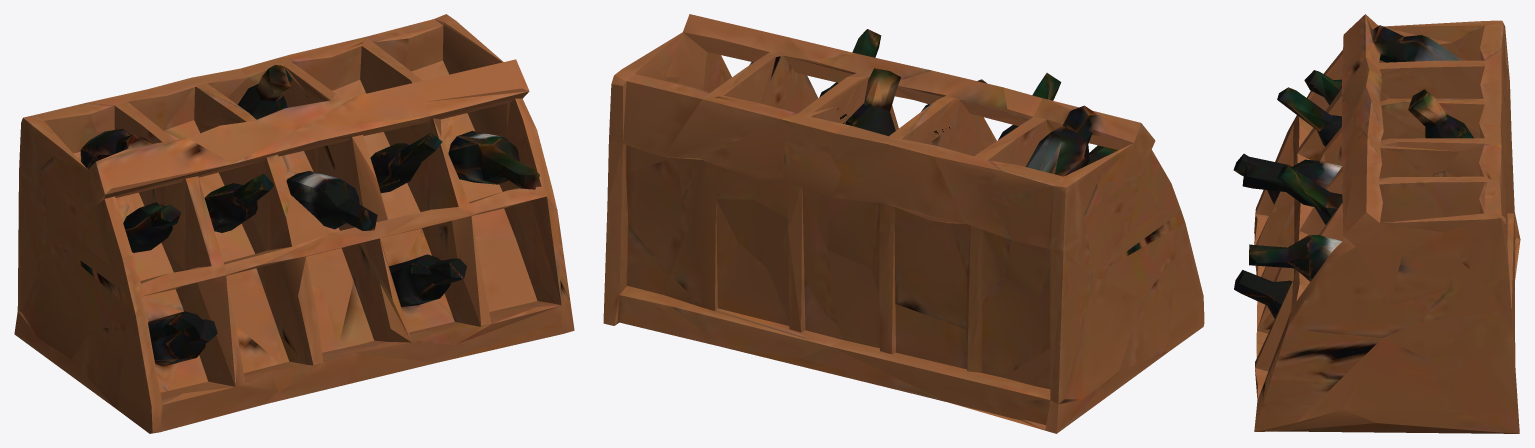
Rendered from wine-rack.low.glb.
3 renders of one model, left to right at view 1: azimuth 30°, elevation 25°; view 2: azimuth 150°, elevation 25°; view 3: azimuth 270°, elevation 25°, orthographic. The views are drawn at different scales.
Visible parts, largest first — view 1: output_unwrapped; view 2: output_unwrapped; view 3: output_unwrapped.
Boxes of the visible parts, box(x1,y1,x2,y2) form: output_unwrapped: box(14, 14, 574, 433); output_unwrapped: box(603, 14, 1204, 433); output_unwrapped: box(1233, 14, 1520, 433).
Size of the model in its own units: 1.9 by 1.08 by 1.16.
Materials: 1 (1 with a texture image).
